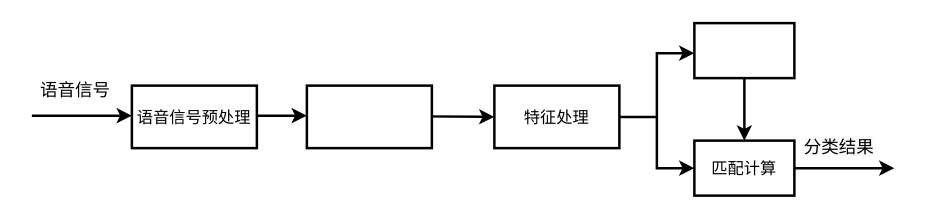
This 935x218 diagram has some shape labels left out. The centre of each missing label's shape, as x and y in pixels:
分类模型: [743,50]
情感特征提取: [368,116]
